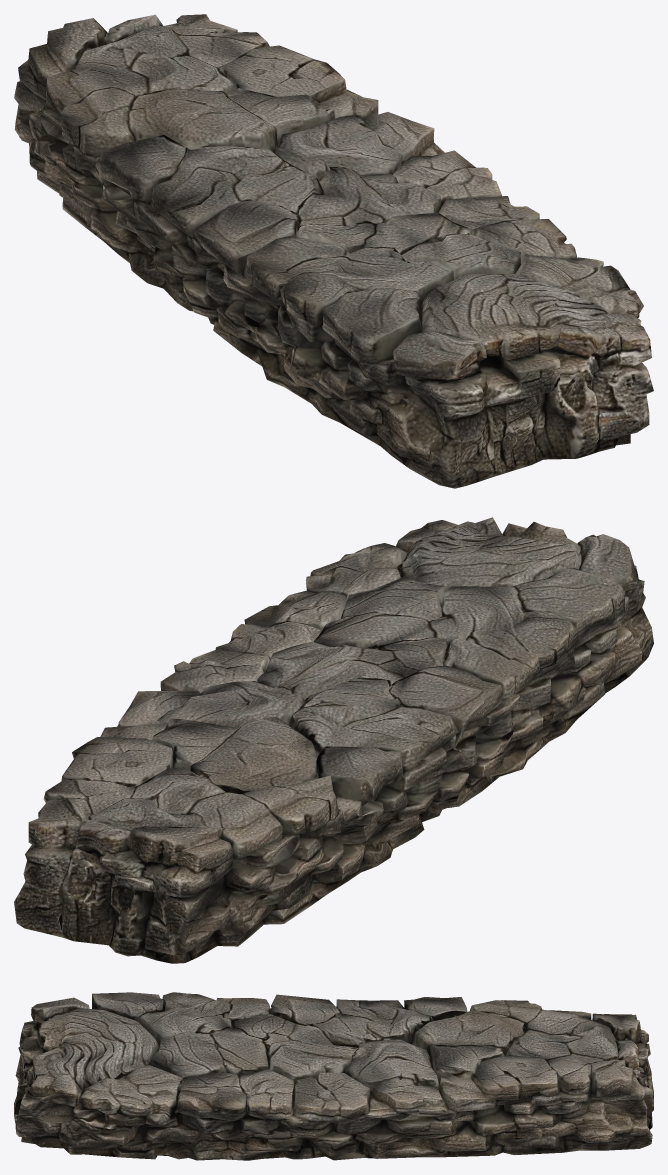
The model's file is rock-venus-plates.glb.
3 views of the same model, one above another, from view 1: azimuth 30°, elevation 25°; view 2: azimuth 150°, elevation 25°; view 3: azimuth 270°, elevation 25° (orthographic). The views are drawn at different scales.
Visible parts, largest first — view 1: lod0; view 2: lod0; view 3: lod0.
Part boxes in pixels (x1,y1,x2,y2): lod0: [14, 14, 653, 488]; lod0: [14, 517, 653, 963]; lod0: [14, 992, 653, 1160].
Size of what is drawn, in the model's own units: 0.3772 by 0.1521 by 0.9971.
Materials: 1 (1 with a texture image).
